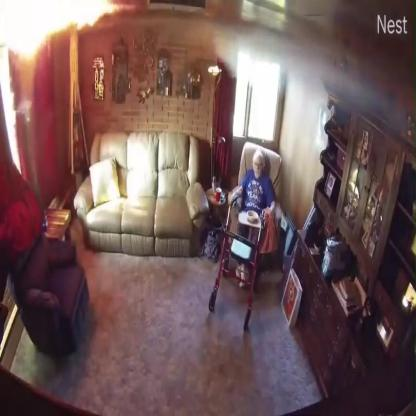fire: (1, 1, 116, 62)
